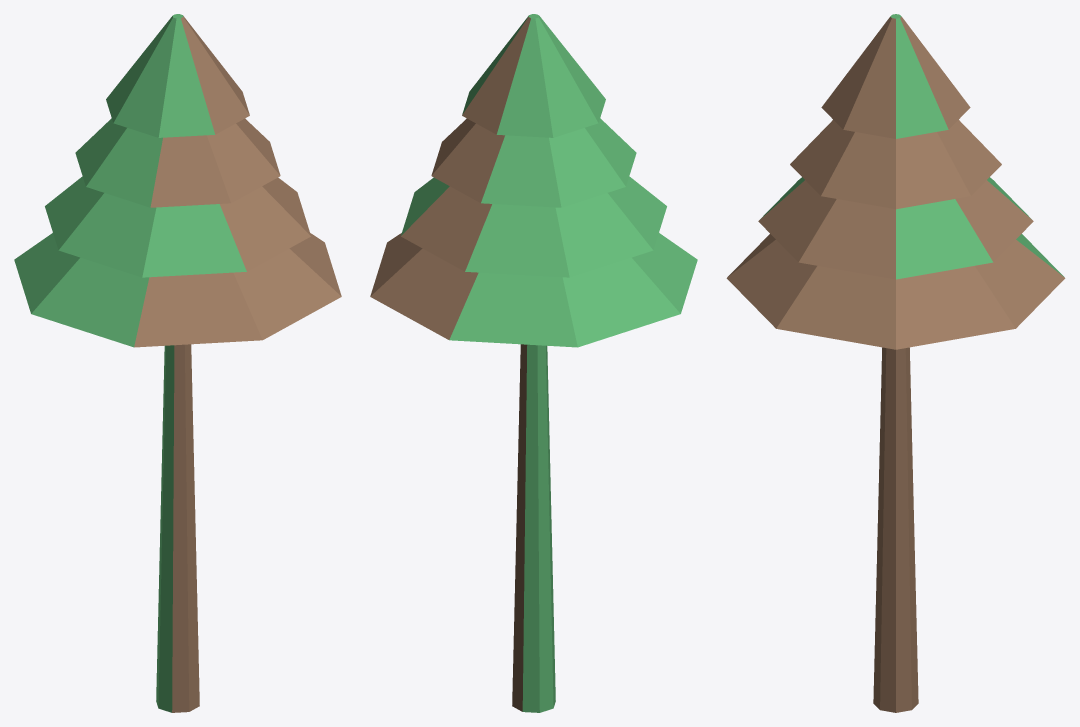
Rendered from TREE-pine-04.glb.
The picture shows the model from 3 angles, left to right: view 1: azimuth 30°, elevation 25°; view 2: azimuth 150°, elevation 25°; view 3: azimuth 270°, elevation 25°; orthographic projection.
Visible parts, largest first — view 1: TREE-pine-04; view 2: TREE-pine-04; view 3: TREE-pine-04.
Part boxes in pixels (<box>): TREE-pine-04: <box>14,14,341,712</box>; TREE-pine-04: <box>370,14,697,712</box>; TREE-pine-04: <box>726,14,1065,712</box>.
Bounding box in the file's own units: 3 × 6.71 × 3.
